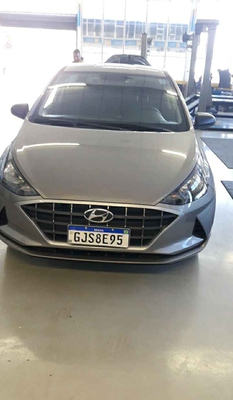Frontal Veiculo: (1, 69, 217, 268)
